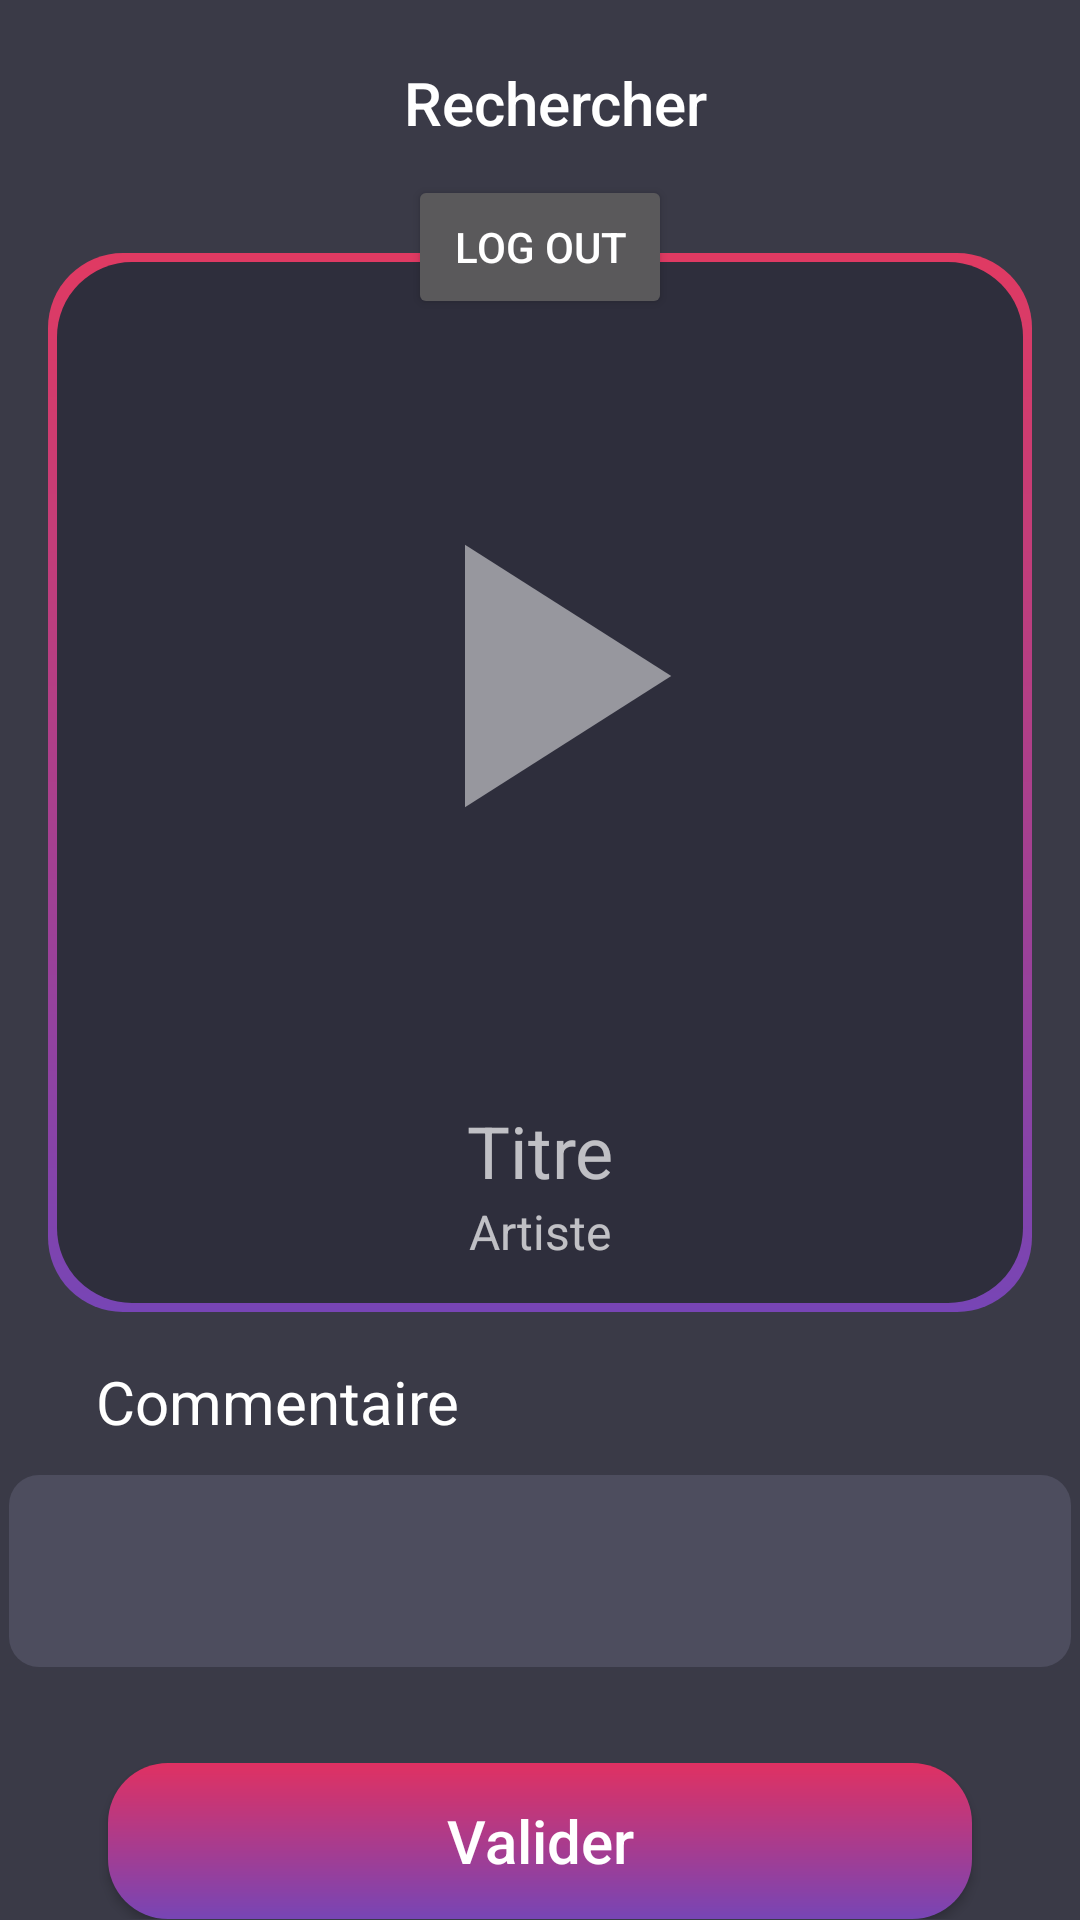

Icon bounding boxes for this 1080*1920 phone screenshot, format (x1, y1, x2, y2):
play: (465, 545, 671, 807)
